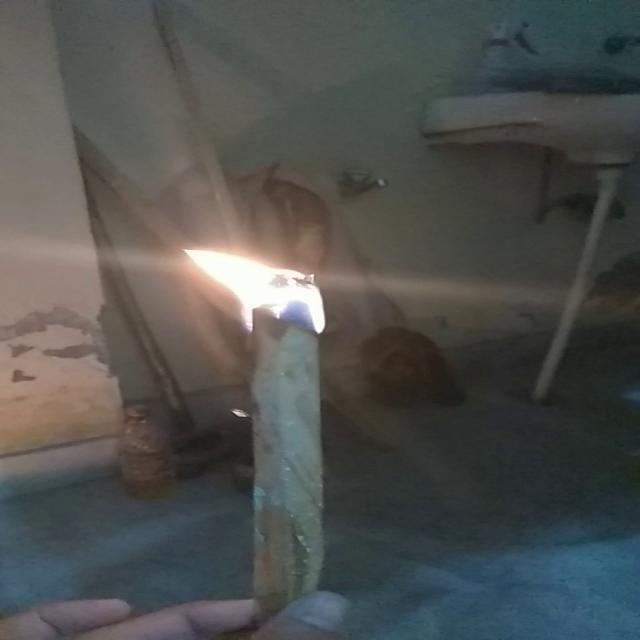fire: (183, 229, 356, 338)
